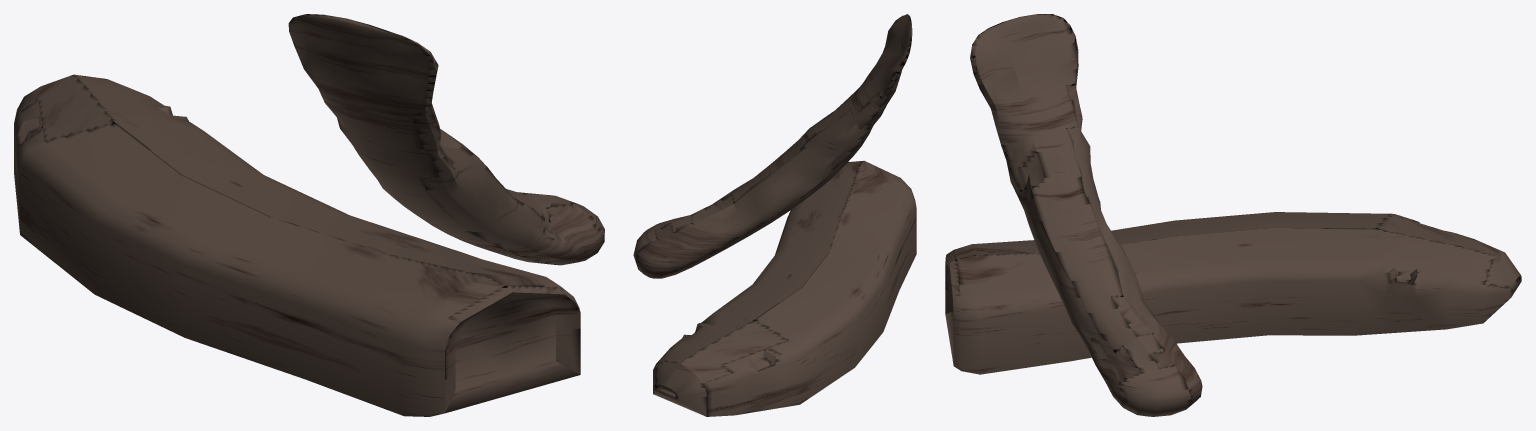
File: gabus pucung.003.fbx
3 renders of one model, left to right at view 1: azimuth 30°, elevation 25°; view 2: azimuth 150°, elevation 25°; view 3: azimuth 270°, elevation 25°, orthographic. The views are drawn at different scales.
Parts seen in each view (by area): view 1: gabus pucung.003_Baked; view 2: gabus pucung.003_Baked; view 3: gabus pucung.003_Baked.
Boxes of the visible parts, x1,y1,x2,y2 form: gabus pucung.003_Baked: (14, 14, 604, 416); gabus pucung.003_Baked: (633, 14, 916, 416); gabus pucung.003_Baked: (945, 14, 1521, 416).
Bounding box in the file's own units: 107 × 93.15 × 170.
1 material, 1 textured.
